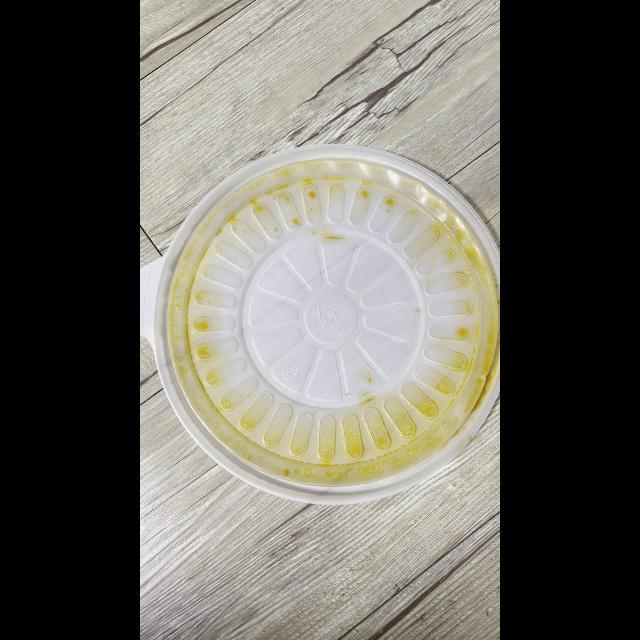dirty: (154, 151, 500, 501)
